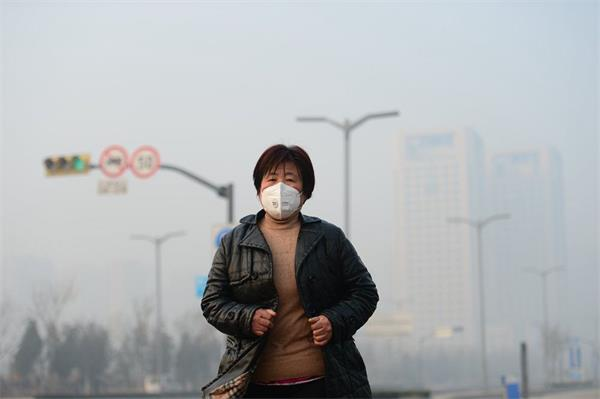face_mask: (259, 164, 303, 218)
